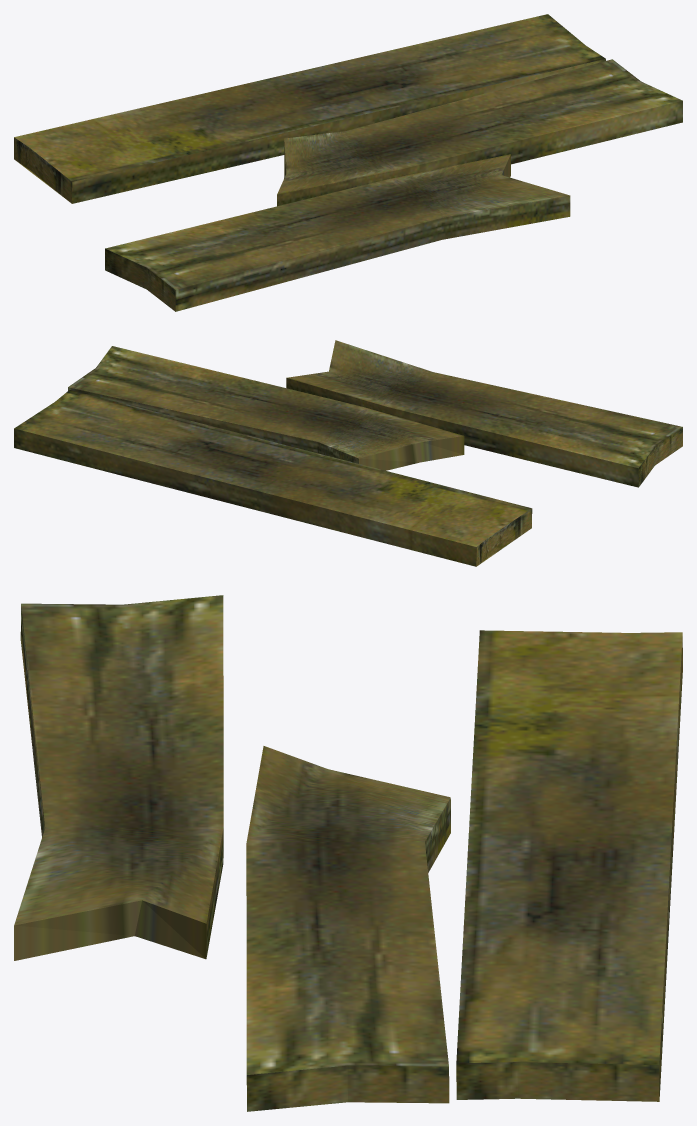
The model's file is 10205_wood03.FBX.
3 renders of one model, top to bottom at view 1: azimuth 30°, elevation 25°; view 2: azimuth 150°, elevation 25°; view 3: azimuth 270°, elevation 25°, orthographic. The views are drawn at different scales.
Visible parts, largest first — view 1: 10205_wood03; view 2: 10205_wood03; view 3: 10205_wood03.
Boxes of the visible parts, left/top/right/bottom form: 10205_wood03: left=14, top=14, right=682, bottom=311; 10205_wood03: left=14, top=340, right=682, bottom=566; 10205_wood03: left=14, top=595, right=682, bottom=1111.
Bounding box in the file's own units: 406 × 14.71 × 239.
